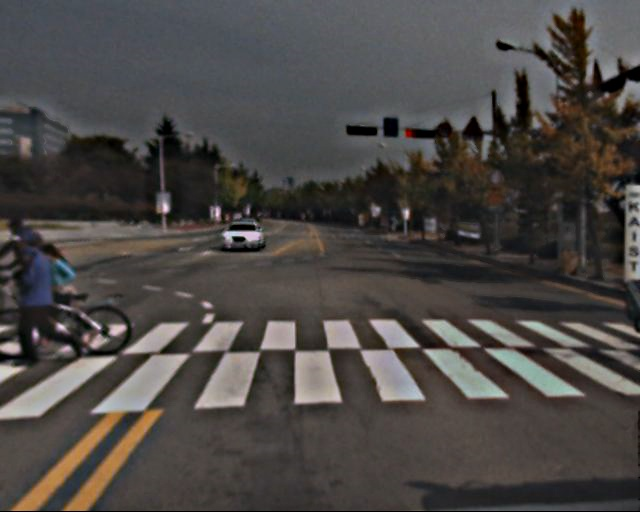person: (3, 229, 101, 358)
